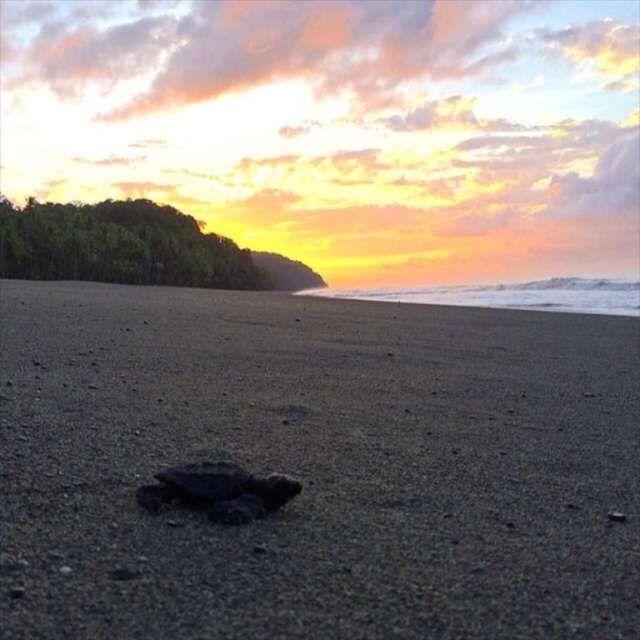Sea turtle: (131, 457, 304, 524)
